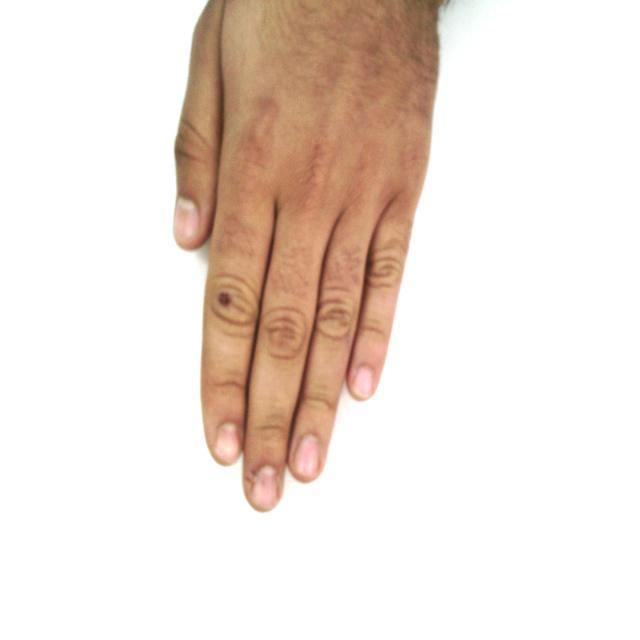Fingernail: (293, 435, 319, 478), (253, 466, 278, 509), (175, 199, 199, 240), (217, 424, 240, 461), (353, 366, 373, 397)
